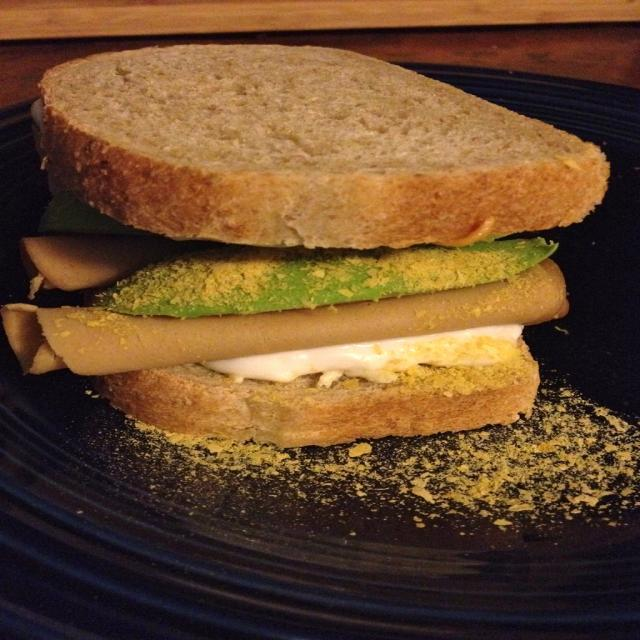Sandwich: (0, 43, 612, 448)
